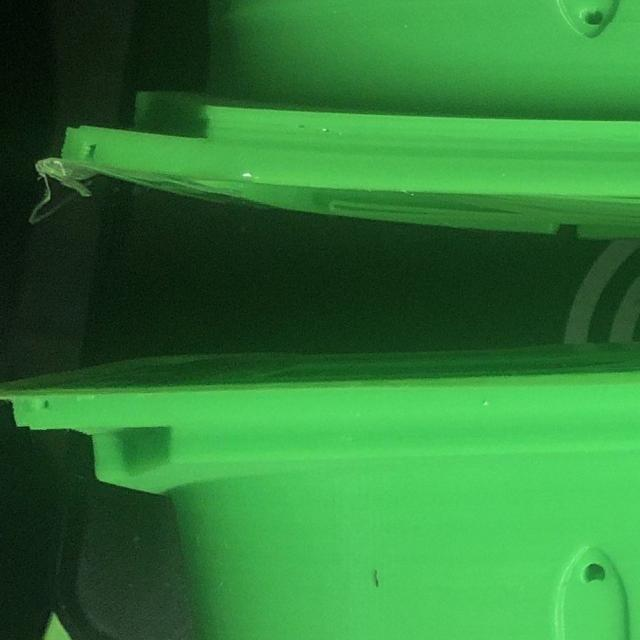Warping: (61, 130, 272, 202)
